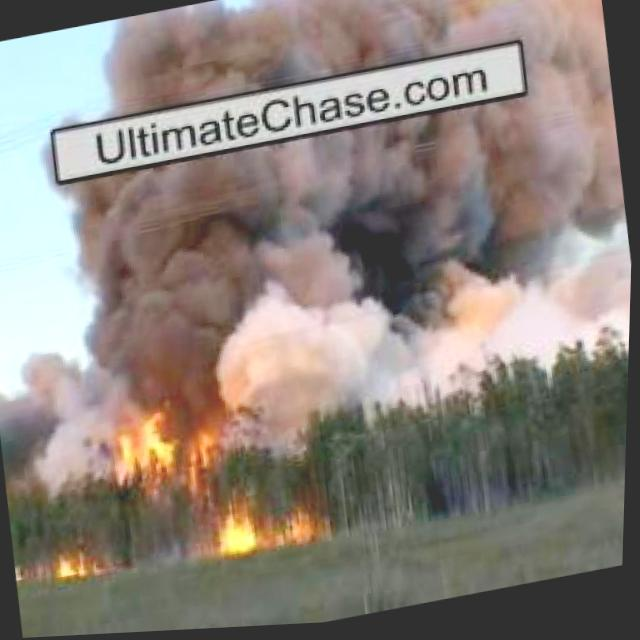Fire: (106, 396, 213, 487), (47, 541, 108, 586), (219, 506, 263, 561), (285, 513, 318, 552)
Smoke: (43, 79, 638, 486), (94, 0, 605, 118)
